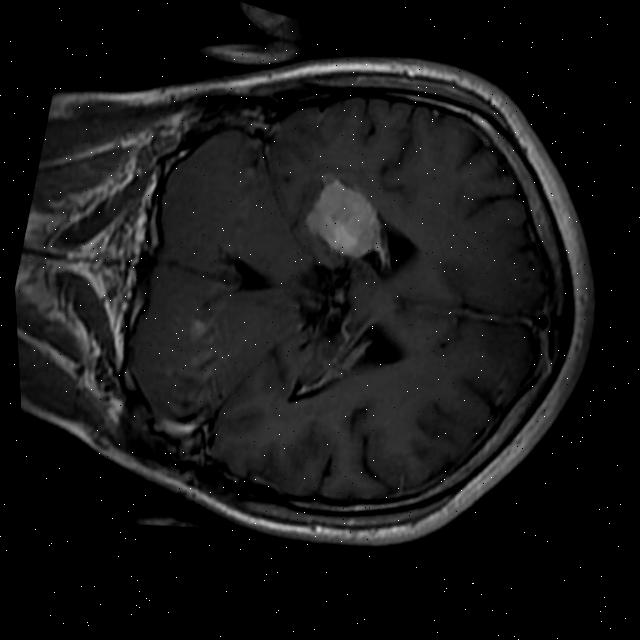Meningioma: (293, 168, 393, 267)
